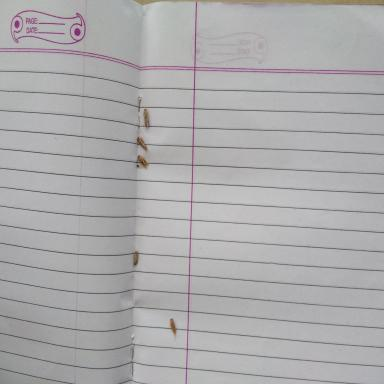pbw: (137, 136, 150, 152), (137, 155, 149, 169), (170, 318, 177, 341), (143, 108, 148, 127), (133, 251, 138, 264)
